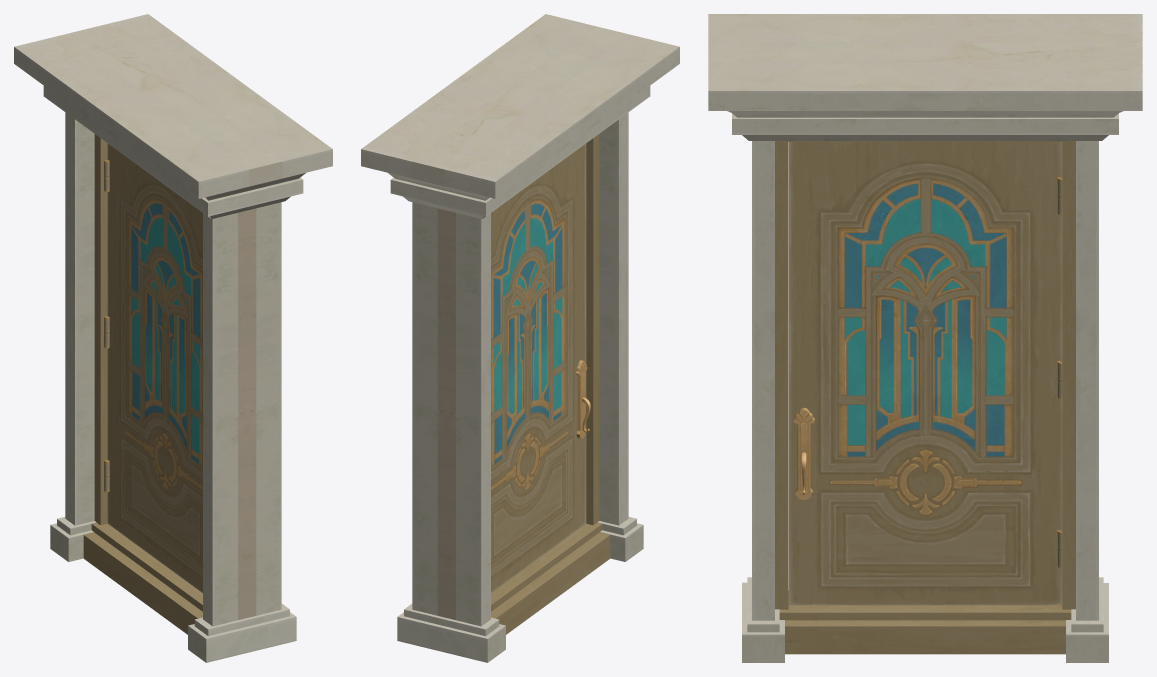
File: Homeworld_Interior_Fd_Room_Door_01_Vo.fbx
3 views of the same model, side by side, from view 1: azimuth 30°, elevation 25°; view 2: azimuth 150°, elevation 25°; view 3: azimuth 270°, elevation 25° (orthographic). The views are drawn at different scales.
Visible parts, largest first — view 1: Homeworld_Interior_Fd_Room_Door_01_01_Vo, Homeworld_Ani_Interior_Fd_Room_Door_01_02_Vo; view 2: Homeworld_Interior_Fd_Room_Door_01_01_Vo, Homeworld_Ani_Interior_Fd_Room_Door_01_02_Vo; view 3: Homeworld_Ani_Interior_Fd_Room_Door_01_02_Vo, Homeworld_Interior_Fd_Room_Door_01_01_Vo.
Part boxes in pixels (x1,y1,x2,y2): Homeworld_Interior_Fd_Room_Door_01_01_Vo: (14,14,332,662); Homeworld_Ani_Interior_Fd_Room_Door_01_02_Vo: (107,143,202,592); Homeworld_Interior_Fd_Room_Door_01_01_Vo: (361,14,679,662); Homeworld_Ani_Interior_Fd_Room_Door_01_02_Vo: (491,143,590,592); Homeworld_Ani_Interior_Fd_Room_Door_01_02_Vo: (789,142,1062,605); Homeworld_Interior_Fd_Room_Door_01_01_Vo: (708,14,1142,662).
Size of the model in its own units: 1.13 by 4 by 2.69.
